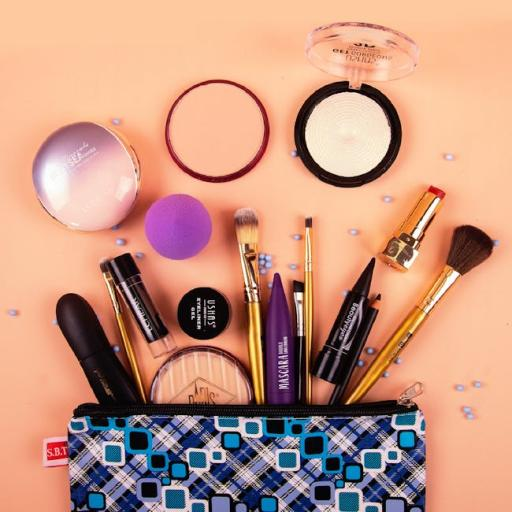lipstick: (56, 294, 140, 404), (312, 259, 374, 383), (108, 253, 176, 357), (378, 186, 445, 271), (266, 274, 296, 404)
